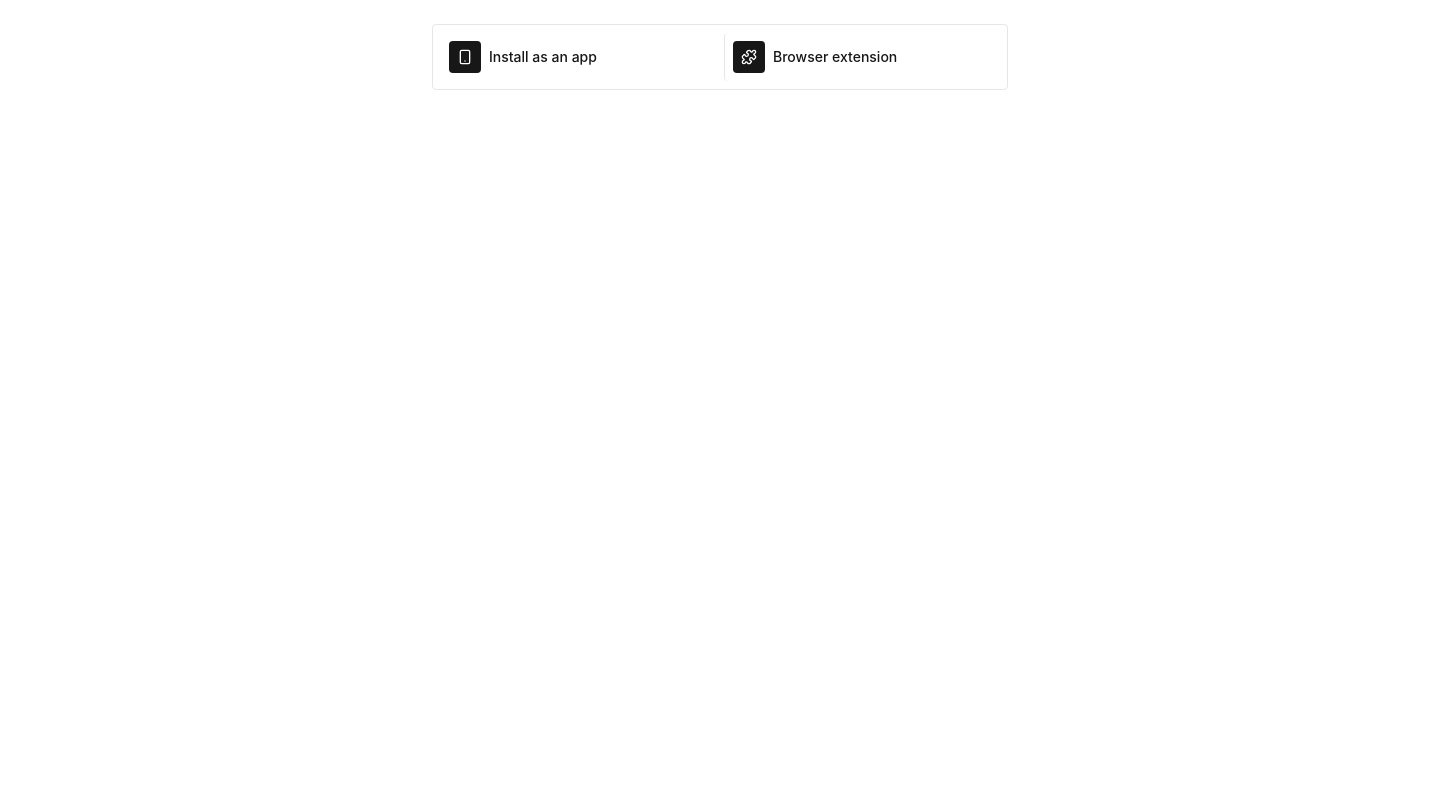
InstallPrompt BIP dialog › opens on mouse down after beforeinstallprompt and shows the in-dialog Install button
Press the mouse on the button "Install as an app": (578, 57) [441,33,716,81]
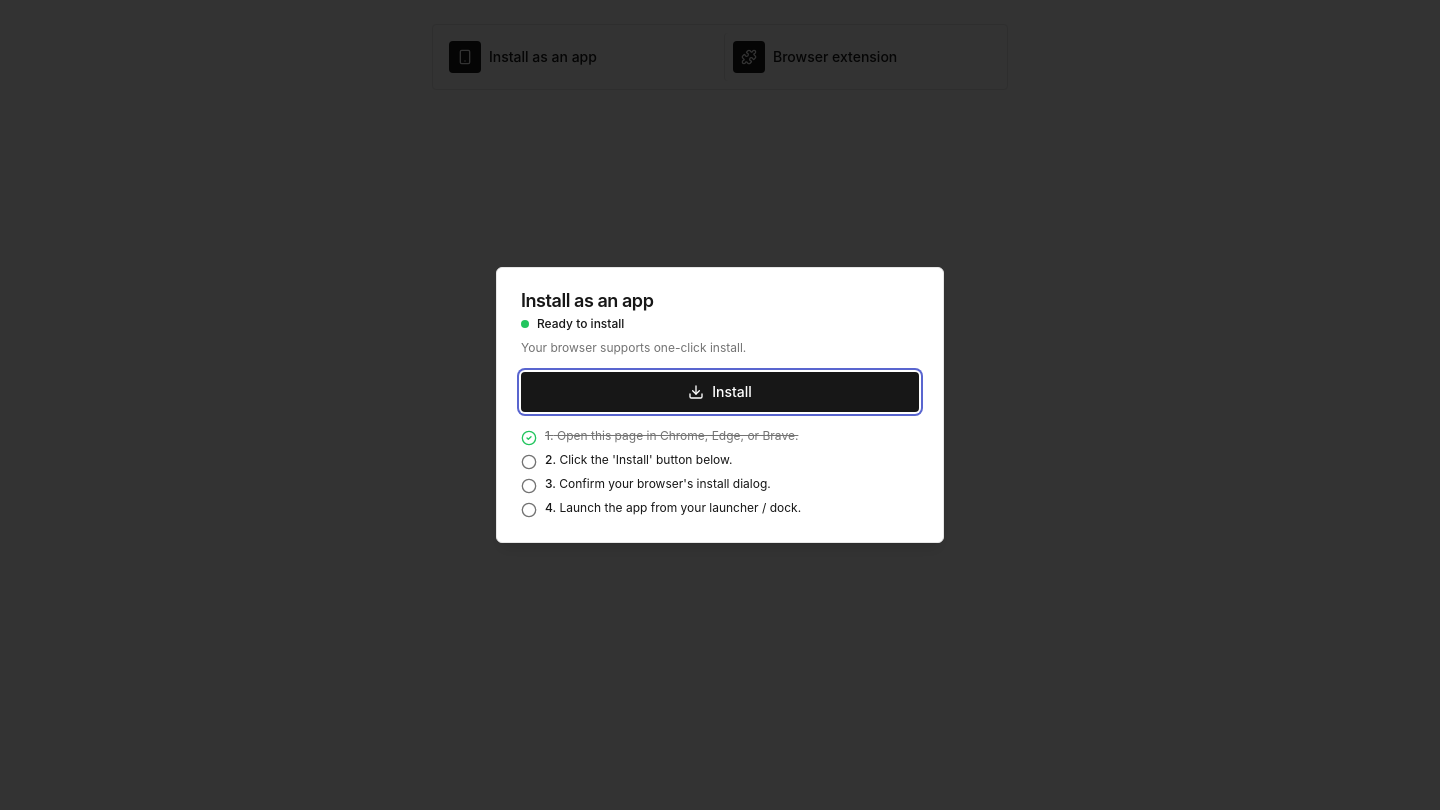
Expected: the dialog is shown, [496,267,944,543]
